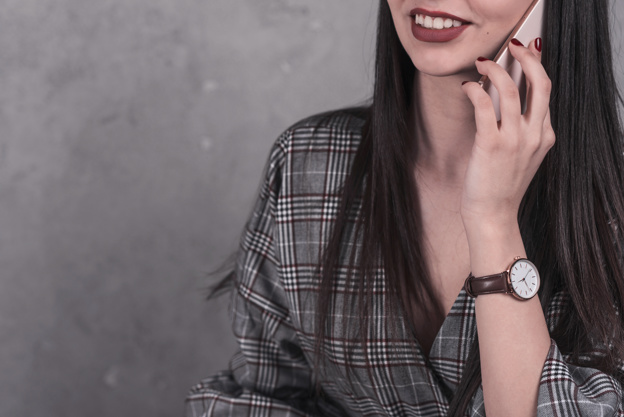phone: (461, 1, 562, 134)
